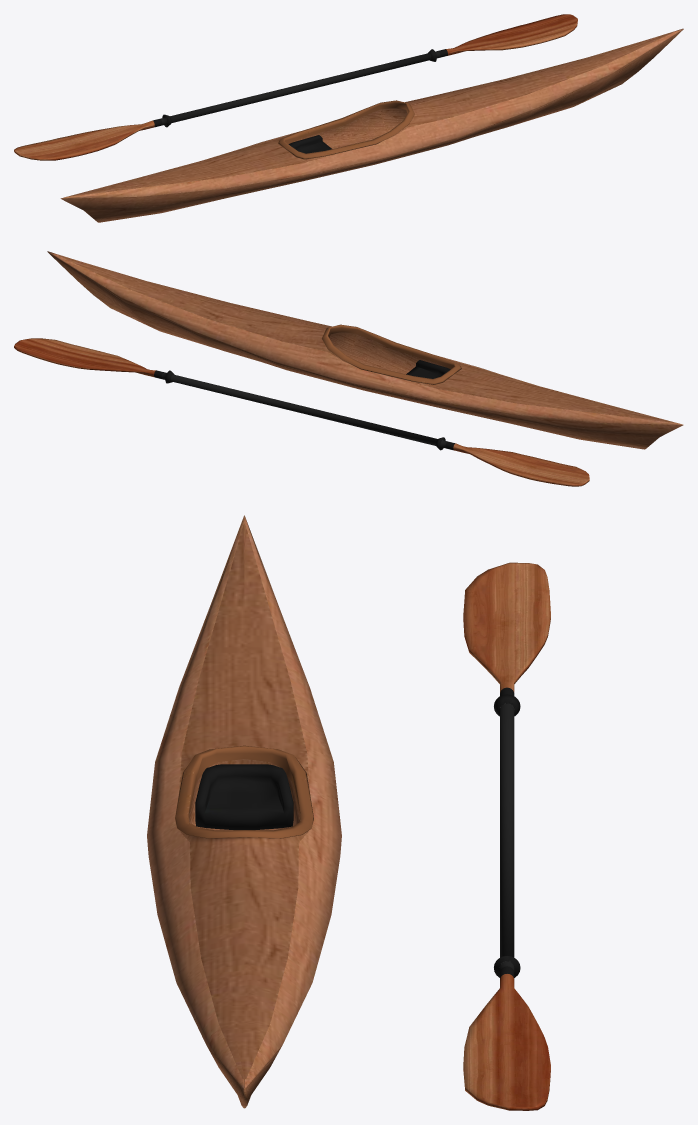
File: kayak.glb
The picture shows the model from 3 angles, top to bottom: view 1: azimuth 30°, elevation 25°; view 2: azimuth 150°, elevation 25°; view 3: azimuth 270°, elevation 25°; orthographic projection. The views are drawn at different scales.
Parts seen in each view (by area): view 1: Kayak_LP, Paddle_LPS; view 2: Kayak_LP, Paddle_LPS; view 3: Kayak_LP, Paddle_LPS.
Boxes of the visible parts, left/top/right/bottom form: Kayak_LP: left=60, top=28, right=683, bottom=222; Paddle_LPS: left=14, top=14, right=577, bottom=160; Kayak_LP: left=47, top=251, right=683, bottom=449; Paddle_LPS: left=14, top=338, right=589, bottom=486; Kayak_LP: left=147, top=515, right=341, bottom=1108; Paddle_LPS: left=463, top=562, right=550, bottom=1110.
Size of the model in its own units: 1 by 0.0878 by 0.2807.
2 materials, 2 textured.
